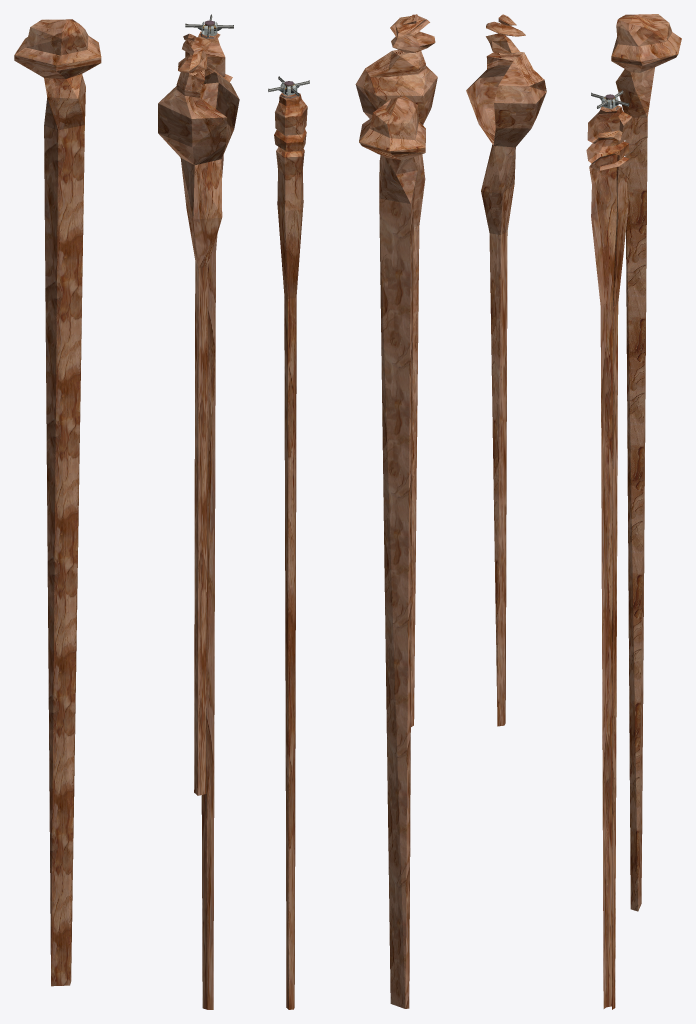
3 views of the same model, side by side, from view 1: azimuth 30°, elevation 25°; view 2: azimuth 150°, elevation 25°; view 3: azimuth 270°, elevation 25° (orthographic). The views are drawn at different scales.
Visible parts, largest first — view 1: Object_2; view 2: Object_2; view 3: Object_2.
Boxes of the visible parts, x1=… form: Object_2: x1=14, y1=14, x2=239, y2=1009; Object_2: x1=268, y1=14, x2=437, y2=1009; Object_2: x1=466, y1=14, x2=681, y2=1009.
Size of the model in its own units: 9607 by 50418 by 10277.
